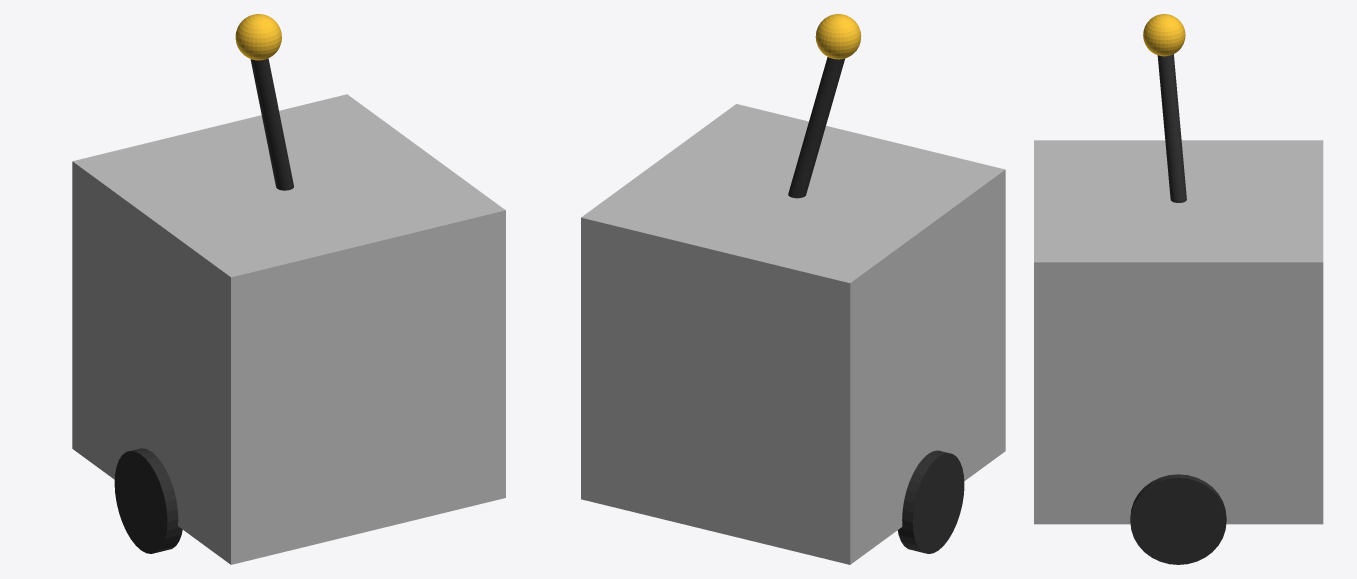
The model's file is Robot.obj.
3 views of the same model, side by side, from view 1: azimuth 30°, elevation 25°; view 2: azimuth 150°, elevation 25°; view 3: azimuth 270°, elevation 25° (orthographic). The views are drawn at different scales.
Parts seen in each view (by area): view 1: Cube.001, Cylinder.004, Cylinder.002, Sphere; view 2: Cube.001, Cylinder.004, Cylinder.002, Sphere; view 3: Cube.001, Cylinder, Cylinder.002, Sphere.
Boxes of the visible parts, x1,y1,x2,y2 form: Cube.001: (72, 94, 505, 564); Cylinder.004: (114, 448, 182, 553); Cylinder.002: (250, 58, 293, 190); Sphere: (235, 14, 281, 60); Cube.001: (581, 104, 1005, 564); Cylinder.004: (897, 450, 964, 553); Cylinder.002: (788, 57, 845, 198); Sphere: (815, 14, 861, 59); Cube.001: (1034, 140, 1323, 524); Cylinder: (1130, 474, 1226, 564); Cylinder.002: (1157, 54, 1186, 202); Sphere: (1143, 14, 1185, 56).
Bounding box in the file's own units: 7.85 × 10.72 × 6.42.
